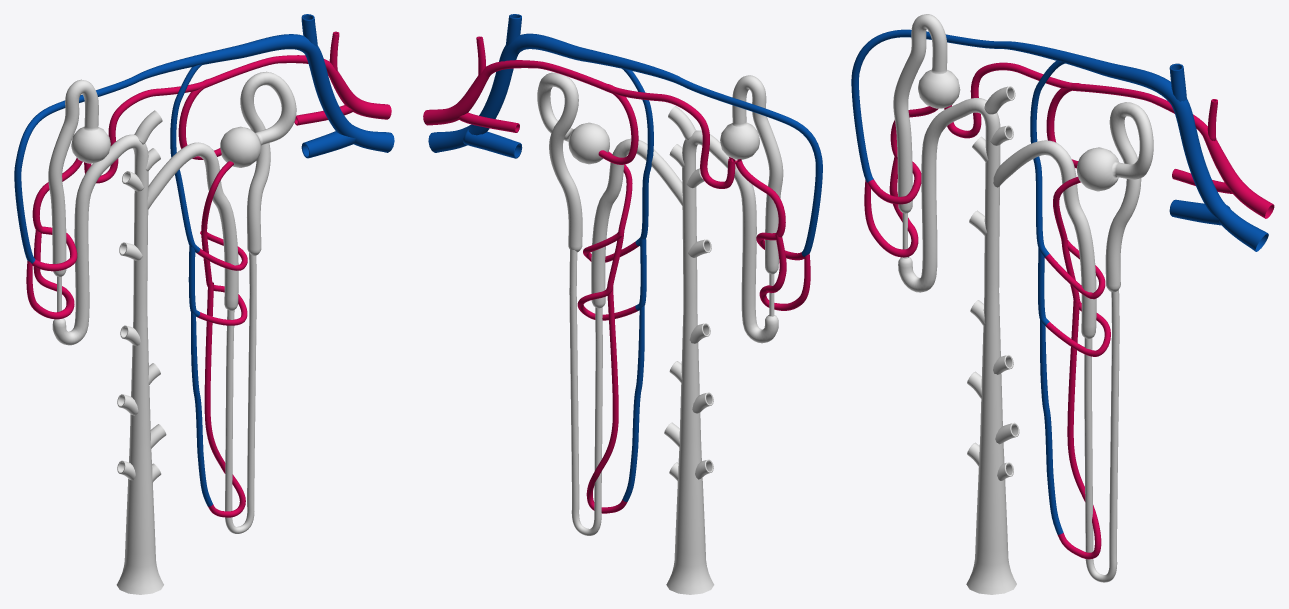
File: lungstructure.fbx
3 views of the same model, side by side, from view 1: azimuth 30°, elevation 25°; view 2: azimuth 150°, elevation 25°; view 3: azimuth 330°, elevation 25° (orthographic). The views are drawn at different scales.
Visible parts, largest first — view 1: BézierCurve.005, BézierCurve.012, BézierCurve.003, BézierCurve, BézierCurve.008, BézierCurve.004, BézierCurve.001, BézierCurve.006, BézierCurve.009, BézierCurve.015, BézierCurve.010; view 2: BézierCurve.005, BézierCurve.012, BézierCurve.003, BézierCurve, BézierCurve.001, BézierCurve.008, BézierCurve.004, BézierCurve.006, BézierCurve.009, BézierCurve.015, BézierCurve.010, BézierCurve.013; view 3: BézierCurve.005, BézierCurve.012, BézierCurve.003, BézierCurve, BézierCurve.008, BézierCurve.001, BézierCurve.004, BézierCurve.006, BézierCurve.009, BézierCurve.015, BézierCurve.010.
Boxes of the visible parts, <box> form: BézierCurve.005: <box>52,134,163,594</box>; BézierCurve.012: <box>14,34,394,271</box>; BézierCurve.003: <box>170,64,247,517</box>; BézierCurve: <box>220,71,296,255</box>; BézierCurve.008: <box>48,79,110,276</box>; BézierCurve.004: <box>225,253,256,533</box>; BézierCurve.001: <box>84,55,391,183</box>; BézierCurve.006: <box>147,142,238,310</box>; BézierCurve.009: <box>117,110,166,482</box>; BézierCurve.015: <box>26,230,74,319</box>; BézierCurve.010: <box>301,131,355,158</box>; BézierCurve.005: <box>666,130,778,594</box>; BézierCurve.012: <box>428,33,822,260</box>; BézierCurve.003: <box>577,68,653,513</box>; BézierCurve: <box>537,72,609,252</box>; BézierCurve.001: <box>423,60,735,188</box>; BézierCurve.008: <box>720,75,783,274</box>; BézierCurve.004: <box>569,249,602,535</box>; BézierCurve.006: <box>591,138,682,308</box>; BézierCurve.009: <box>664,106,713,481</box>; BézierCurve.015: <box>759,235,810,310</box>; BézierCurve.010: <box>463,129,522,158</box>; BézierCurve.013: <box>458,112,519,132</box>; BézierCurve.005: <box>898,98,1016,594</box>; BézierCurve.012: <box>851,29,1268,251</box>; BézierCurve.003: <box>1030,60,1110,559</box>; BézierCurve: <box>1076,102,1153,292</box>; BézierCurve.008: <box>893,14,960,213</box>; BézierCurve.001: <box>944,62,1274,218</box>; BézierCurve.004: <box>1084,289,1119,582</box>; BézierCurve.006: <box>993,140,1096,338</box>; BézierCurve.009: <box>967,86,1019,480</box>; BézierCurve.015: <box>864,157,918,257</box>; BézierCurve.010: <box>1169,199,1230,225</box>.
Bounding box in the file's own units: 306 × 399 × 32.88.
